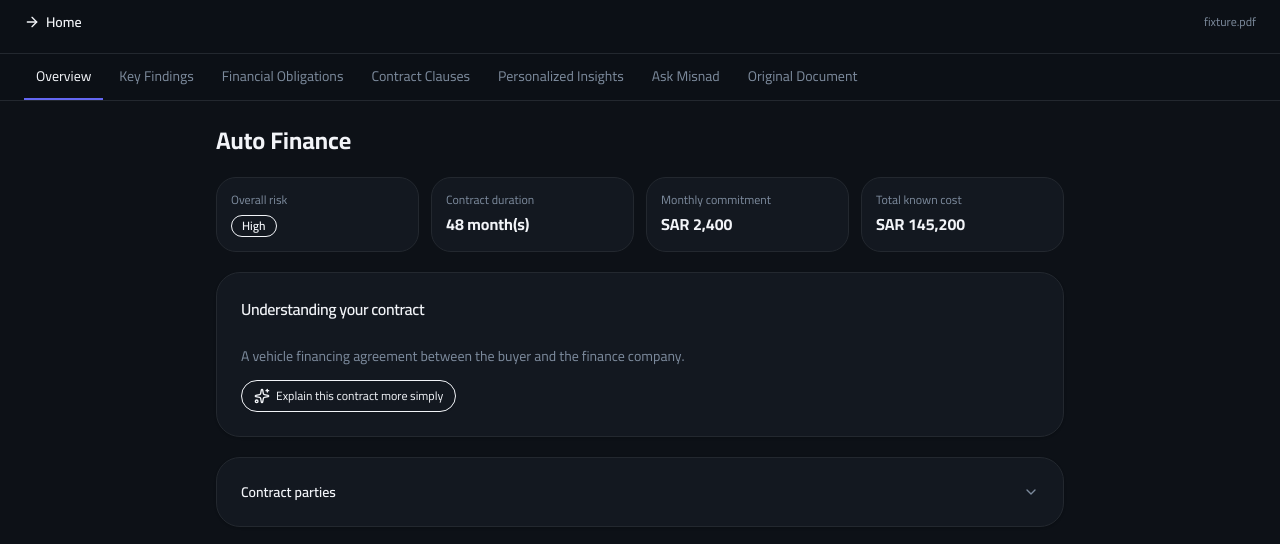
Test case: V2 ResultsScreen › sends a chat question and renders the assistant's answer with no route field in the request
Click the tab with test id "tab-trigger-chat". click: (686, 77)
box: [640,54,732,100]
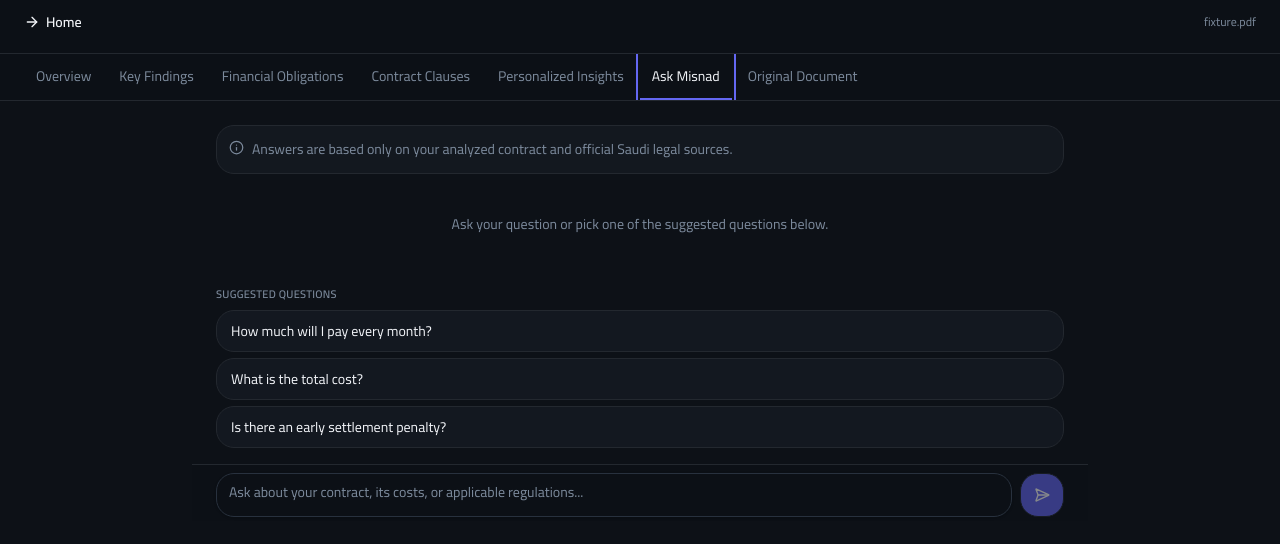
Type "What is the early termination fee?" into the text box with test id "chat-input-textarea". click: (614, 495)
box: [216,473,1012,517]
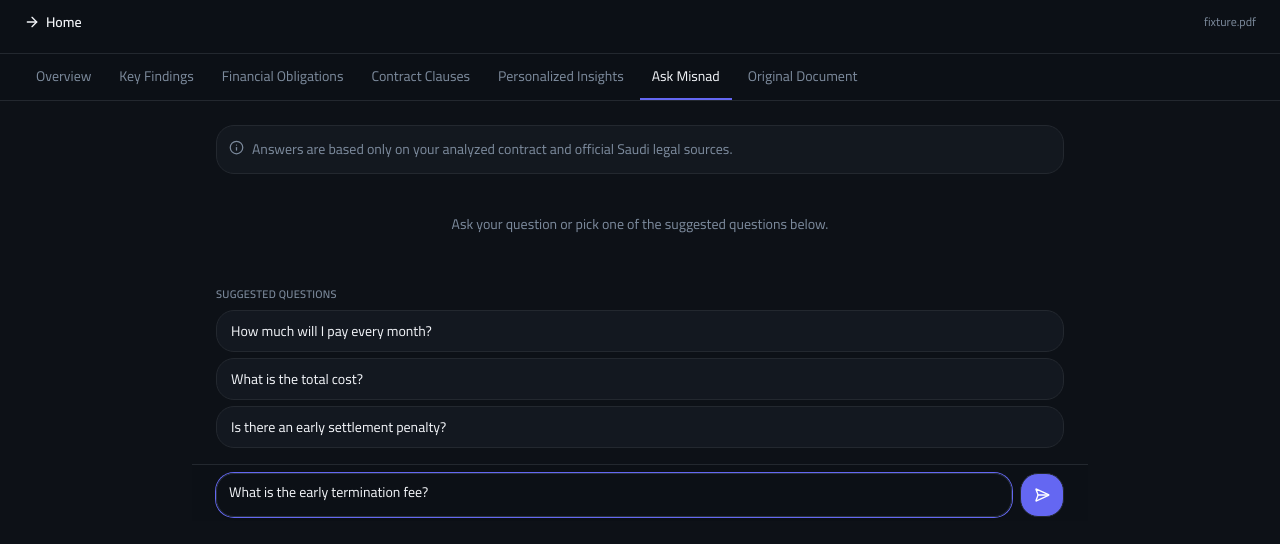
Click the button with test id "chat-send-button". click: (1042, 495)
box: [1020,473,1064,517]
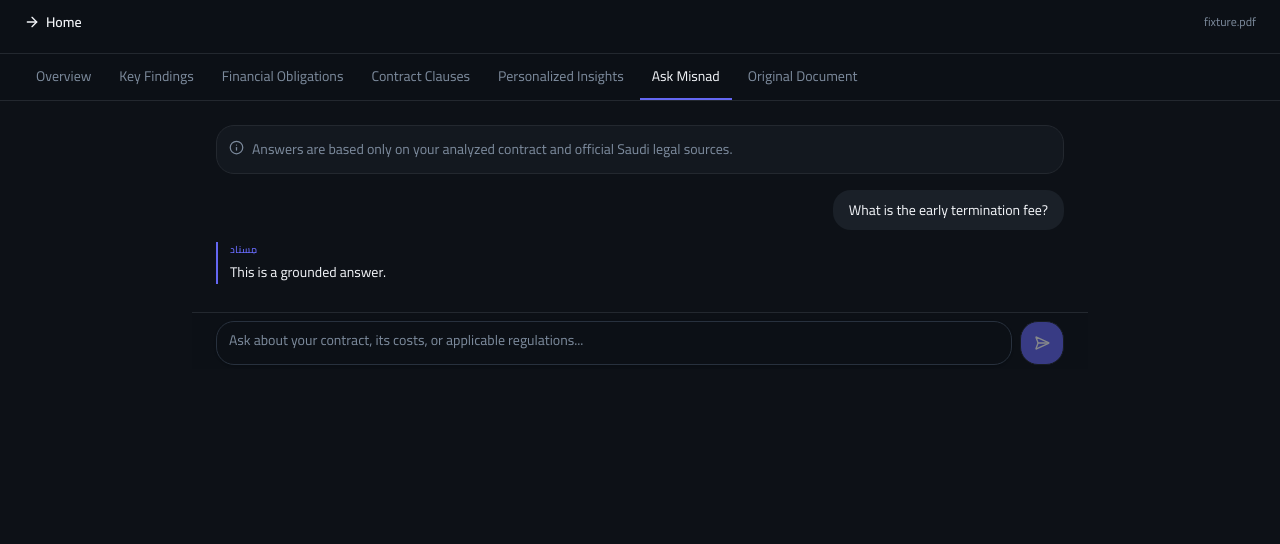
Check: the element with test id "chat-message-assistant" shows "This is a grounded answer.", box [230,259,386,285]
